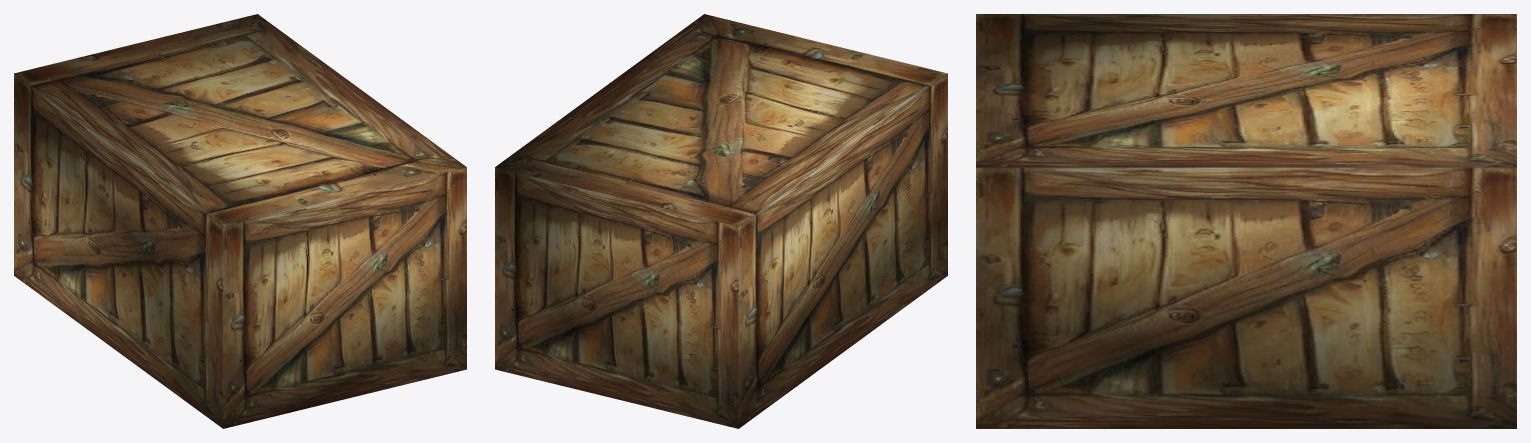
The model's file is replacecrate01.glb.
3 renders of one model, left to right at view 1: azimuth 30°, elevation 25°; view 2: azimuth 150°, elevation 25°; view 3: azimuth 270°, elevation 25°, orthographic. The views are drawn at different scales.
Bounding box in the file's own units: 0.8002 × 0.6349 × 1.19.
1 material, 1 textured.
